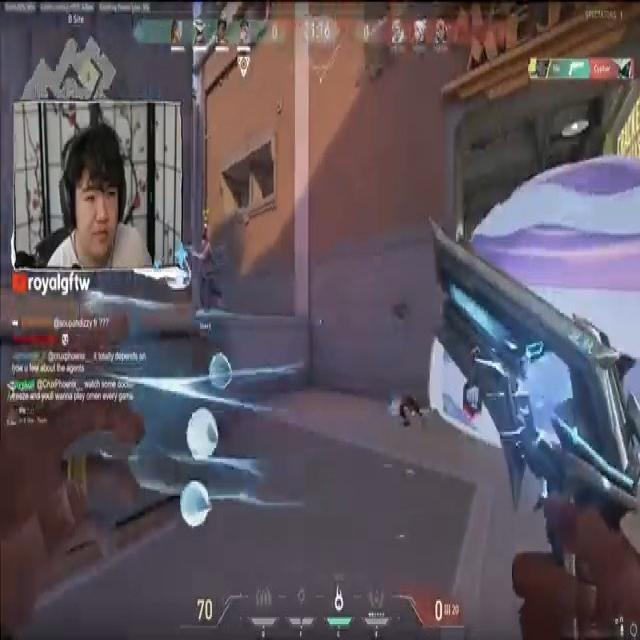smoke: (439, 160, 640, 450)
